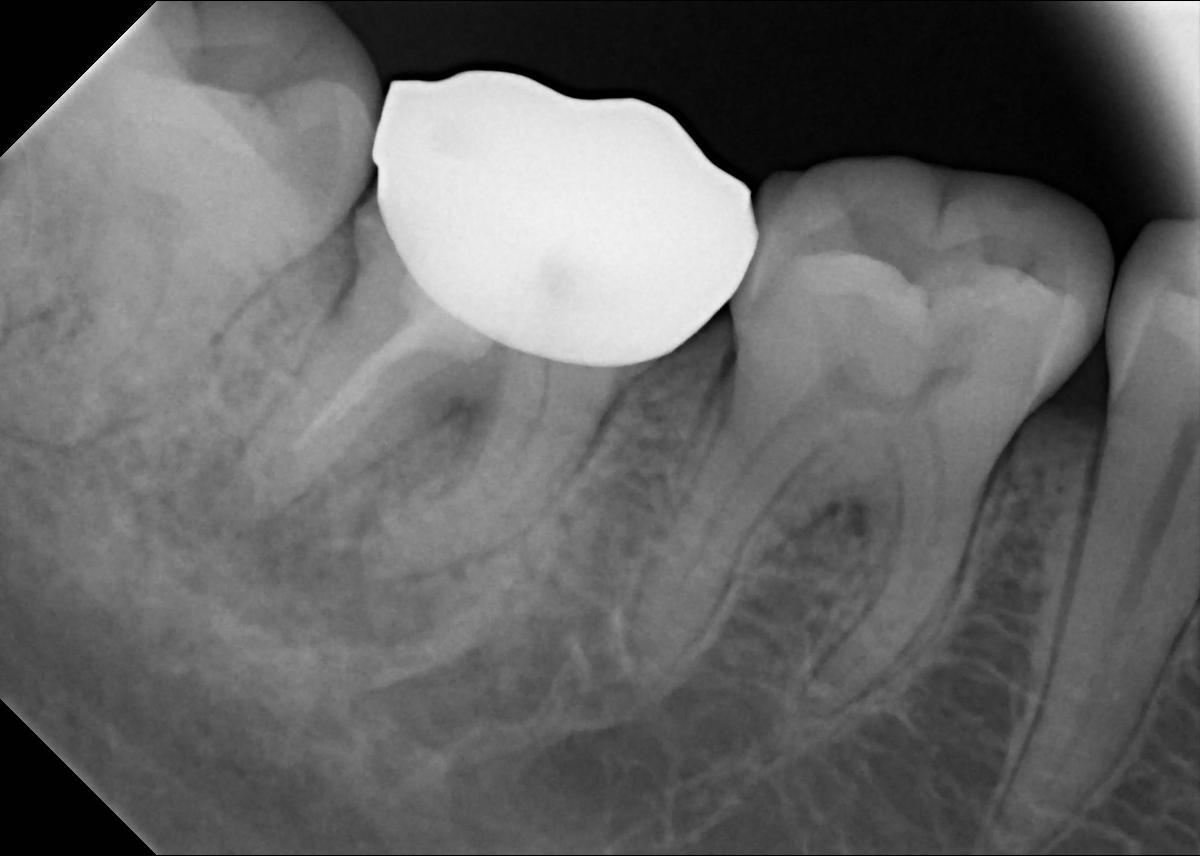Endo-Periodontal Lesion: (819, 497, 872, 537), (439, 396, 485, 426)
